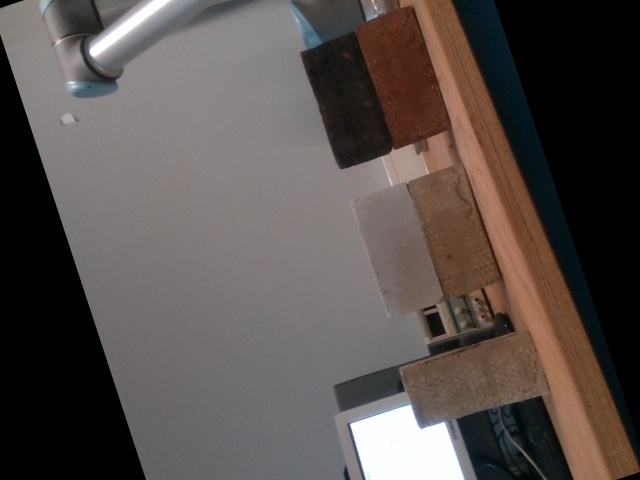brick: (405, 332, 547, 429), (357, 11, 446, 145), (301, 35, 390, 168), (353, 185, 442, 318), (409, 166, 498, 299)
